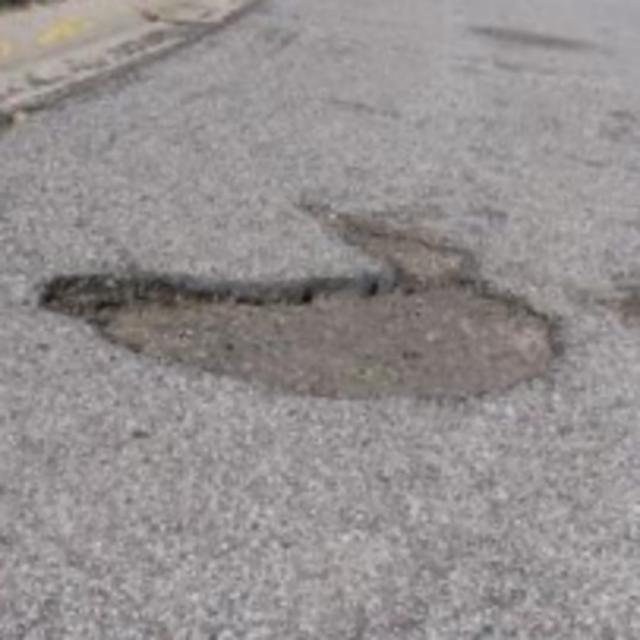pothole: (33, 193, 569, 414)
